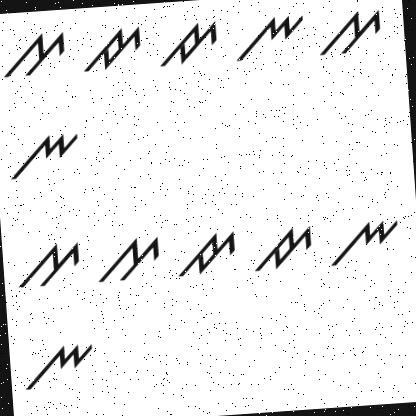ja: (172, 219, 251, 288), (77, 21, 149, 81), (251, 216, 316, 277), (154, 18, 223, 71)
nya: (17, 326, 104, 400), (328, 204, 404, 276), (6, 122, 82, 184), (233, 8, 309, 68)
sa: (7, 234, 88, 295), (93, 228, 170, 292), (0, 25, 68, 83), (318, 6, 386, 58)
